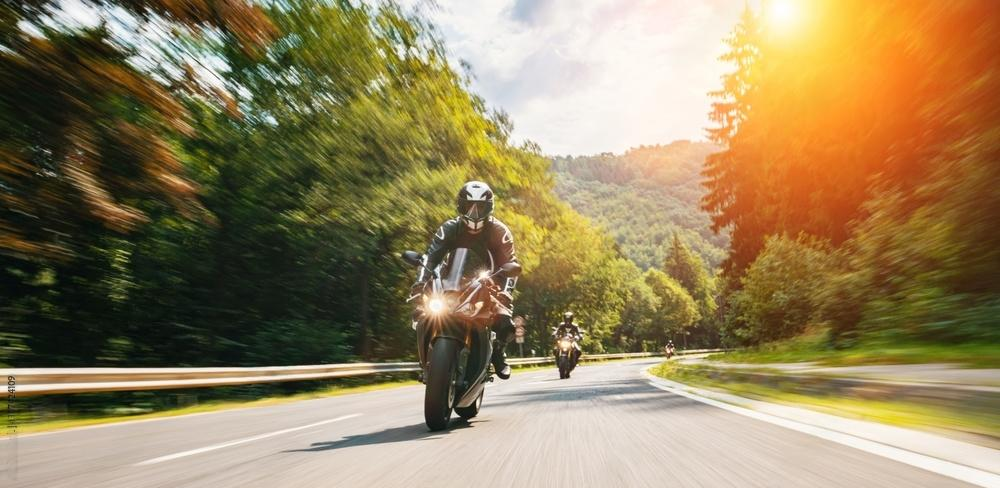helmet: (457, 180, 494, 232)
